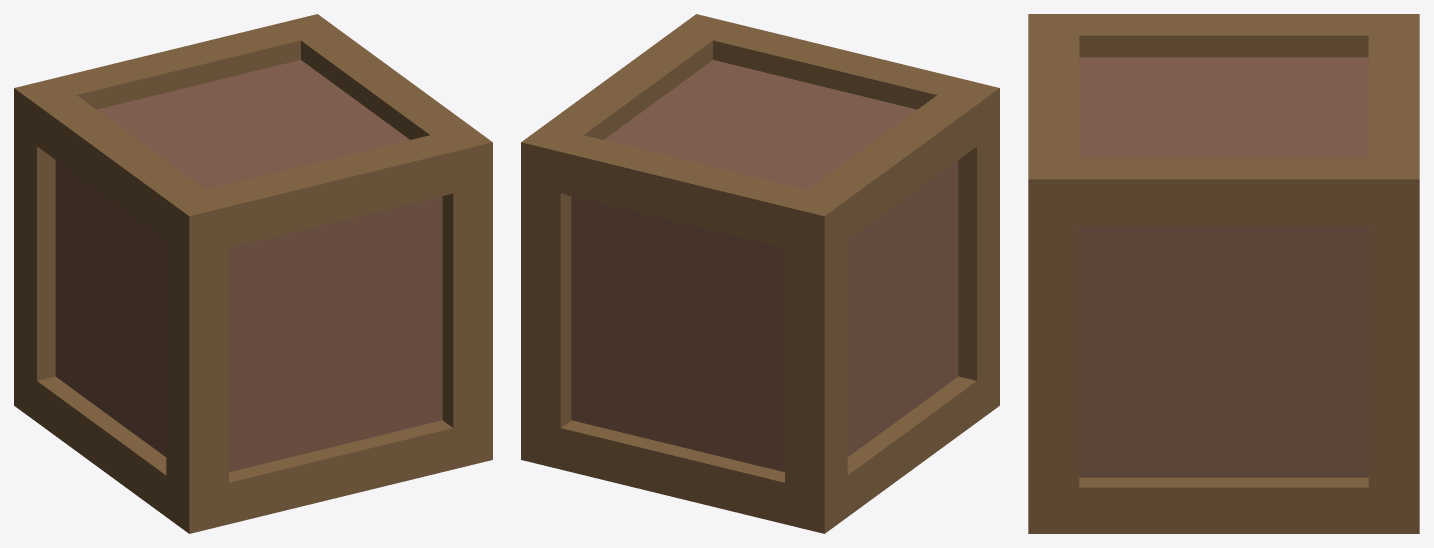
3 renders of one model, left to right at view 1: azimuth 30°, elevation 25°; view 2: azimuth 150°, elevation 25°; view 3: azimuth 270°, elevation 25°, orthographic. The views are drawn at different scales.
Parts seen in each view (by area): view 1: Box; view 2: Box; view 3: Box.
Boxes of the visible parts, x1,y1,x2,y2 form: Box: (14, 14, 492, 533); Box: (521, 14, 999, 533); Box: (1028, 14, 1419, 533).
Size of the model in its own units: 0.9815 by 0.9815 by 0.9815.
